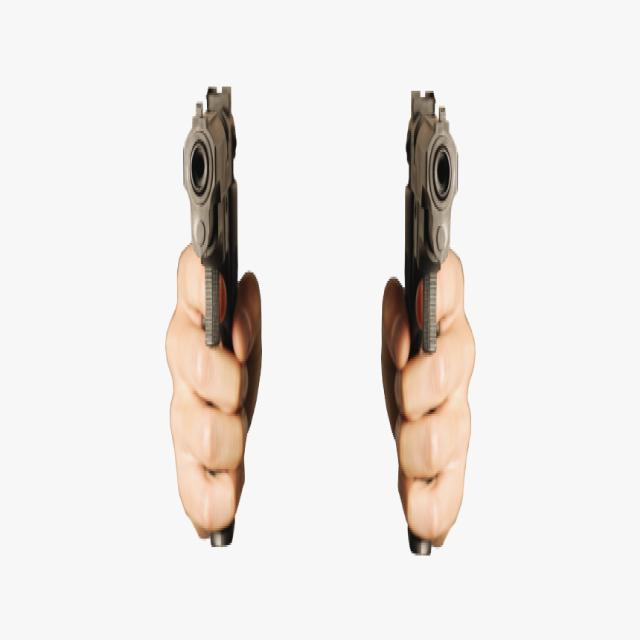HandGun: (183, 84, 241, 355), (404, 91, 460, 361)
